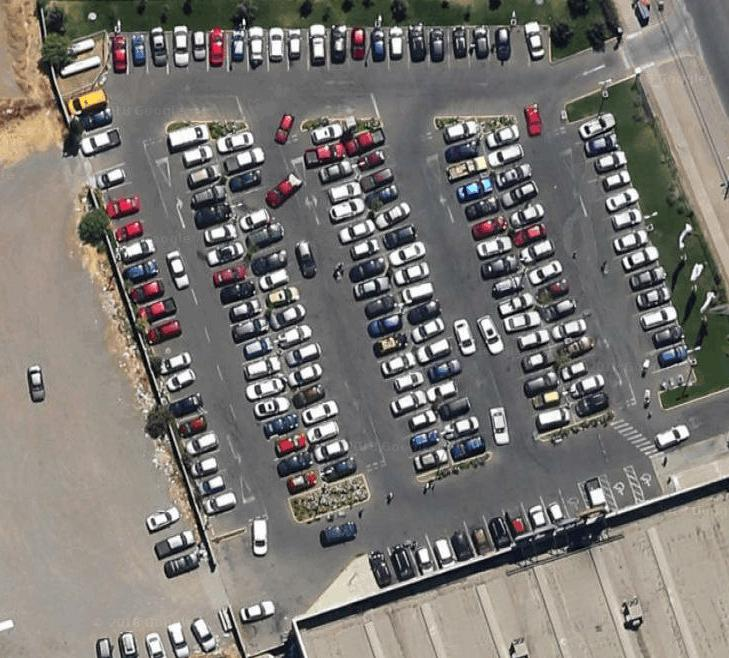parkingspot: (162, 123, 325, 501), (91, 160, 250, 539), (298, 121, 454, 480), (210, 125, 364, 486), (342, 123, 494, 465), (435, 116, 576, 438), (479, 121, 616, 425), (565, 110, 700, 397), (365, 479, 592, 592), (104, 23, 552, 77), (61, 81, 125, 160), (603, 465, 638, 511), (631, 456, 666, 502)
